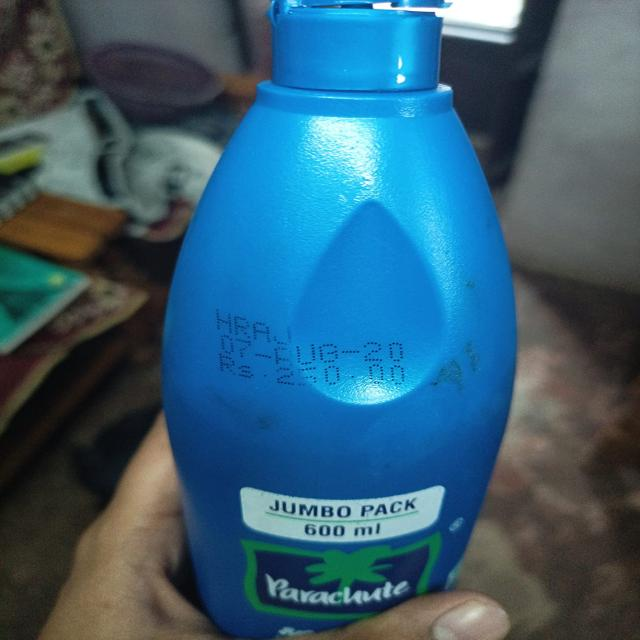parachute_oil: (157, 6, 500, 630)
